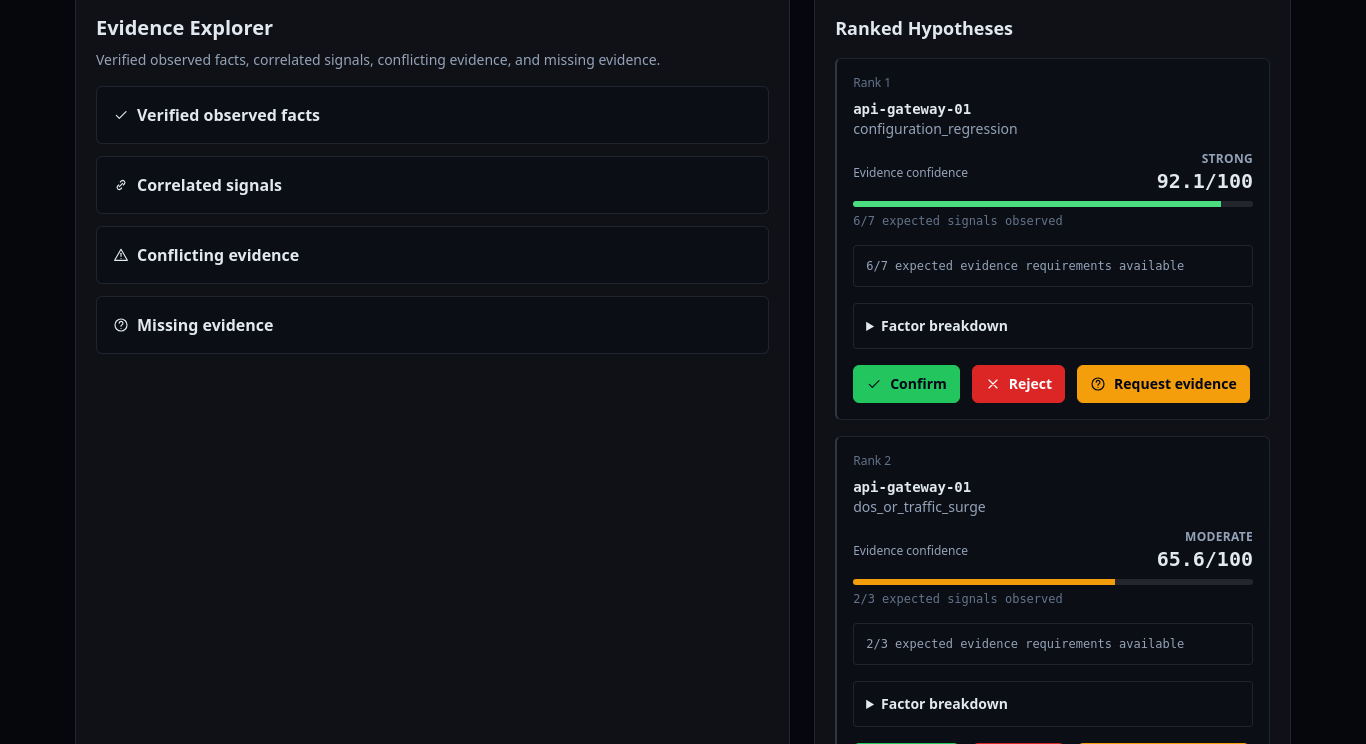
InvestigationPage › surfaces a frozen review-conflict message
(page scrolled)
Click the 1st button "Confirm" at {"x": 906, "y": 384}, box 853,365 -> 960,403
(page scrolled)
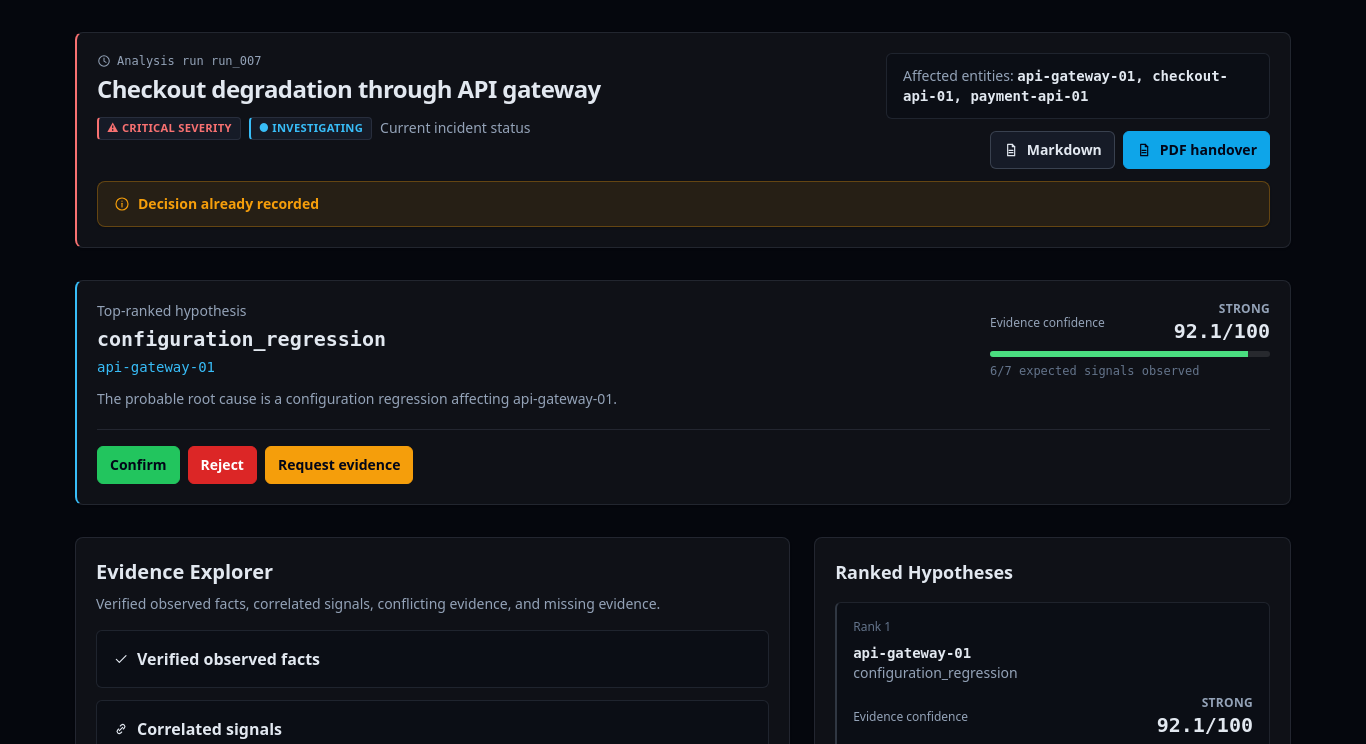
expect the message with test id "generic-banner" reads "Decision already recorded": met, box 138,194 -> 319,213
